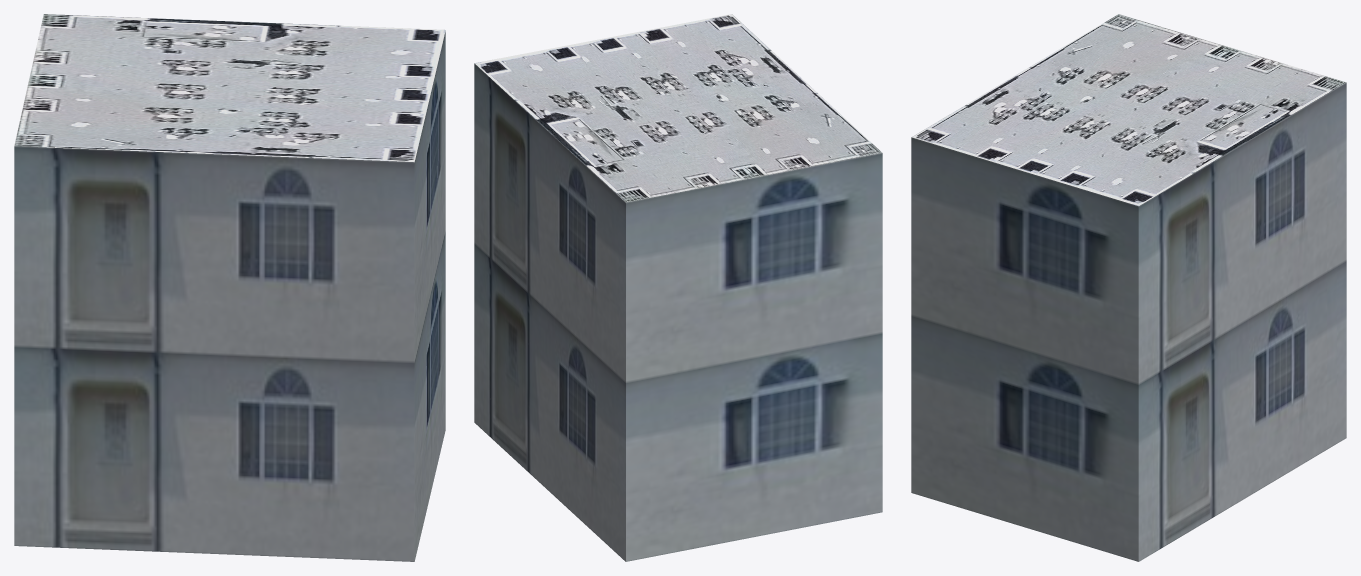
Rendered from ResTex__949.fbx.
3 renders of one model, left to right at view 1: azimuth 30°, elevation 25°; view 2: azimuth 150°, elevation 25°; view 3: azimuth 270°, elevation 25°, orthographic. The views are drawn at different scales.
Visible parts, largest first — view 1: CityEngineMaterial_17_m, CityEngineMaterial_4_m; view 2: CityEngineMaterial_17_m, CityEngineMaterial_4_m; view 3: CityEngineMaterial_17_m, CityEngineMaterial_4_m.
Boxes of the visible parts, <box> form: CityEngineMaterial_17_m: <box>14,31,445,561</box>; CityEngineMaterial_4_m: <box>14,14,445,162</box>; CityEngineMaterial_17_m: <box>474,63,882,561</box>; CityEngineMaterial_4_m: <box>474,14,882,202</box>; CityEngineMaterial_17_m: <box>911,82,1346,561</box>; CityEngineMaterial_4_m: <box>912,14,1345,206</box>.
Size of the model in its own units: 6.96 by 6 by 6.65.
2 materials, 2 textured.
